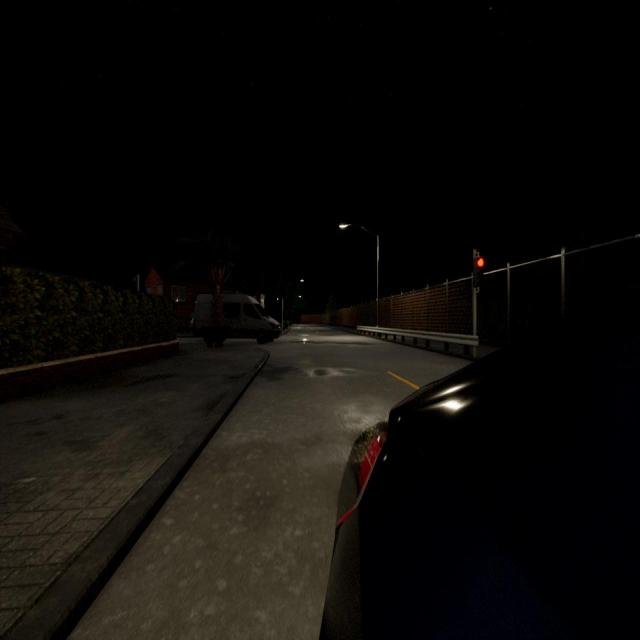Vehicle: (319, 288, 640, 640), (194, 294, 282, 344)
traffic_light: (472, 256, 484, 288)
